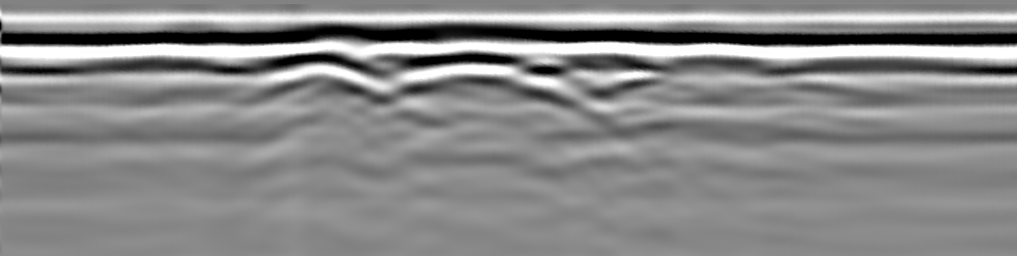pipe: (264, 26, 377, 76), (407, 29, 524, 76)
